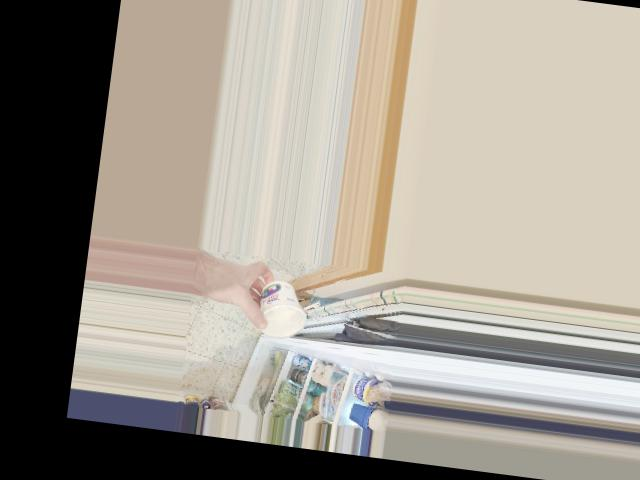cotage: (257, 284, 312, 334)
